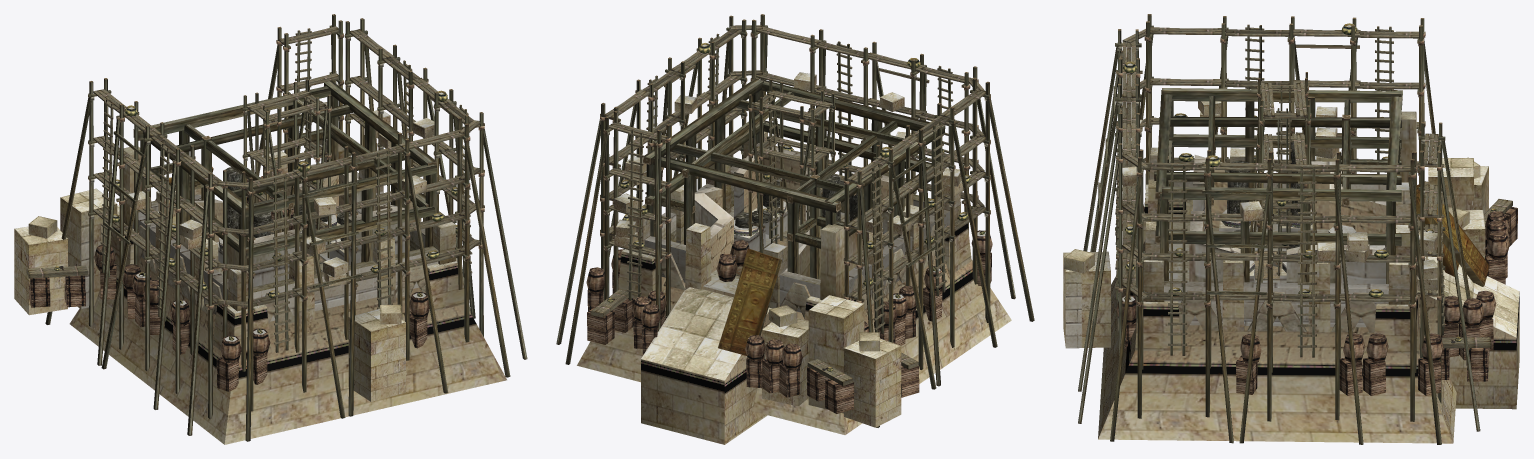
Rendered from scaffold_up_cart_fortress.glb.
3 renders of one model, left to right at view 1: azimuth 30°, elevation 25°; view 2: azimuth 150°, elevation 25°; view 3: azimuth 270°, elevation 25°, orthographic. The views are drawn at different scales.
Visible parts, largest first — view 1: scaffold_up_cart_fortress_part0; view 2: scaffold_up_cart_fortress_part0; view 3: scaffold_up_cart_fortress_part0.
Boxes of the visible parts, left/top/right/bottom form: scaffold_up_cart_fortress_part0: left=14, top=14, right=527, bottom=444; scaffold_up_cart_fortress_part0: left=556, top=14, right=1034, bottom=444; scaffold_up_cart_fortress_part0: left=1063, top=14, right=1519, bottom=444.
Size of the model in its own units: 8.88 by 6.33 by 8.86.
Materials: 1 (1 with a texture image).
